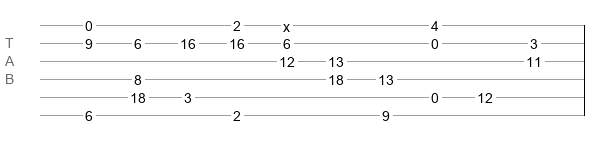0: (85, 18, 93, 28), (431, 90, 439, 100), (431, 36, 439, 46)
11: (526, 54, 542, 64)
12: (279, 54, 295, 64), (477, 90, 493, 100)
13: (328, 54, 344, 64), (378, 72, 394, 82)
16: (180, 36, 196, 46), (229, 36, 245, 46)
18: (130, 90, 146, 100), (328, 72, 344, 82)
2: (233, 18, 241, 28), (233, 108, 241, 118)
3: (184, 90, 192, 100), (530, 36, 538, 46)
4: (431, 18, 439, 28)
6: (85, 108, 93, 118), (134, 36, 142, 46), (283, 36, 291, 46)
8: (134, 72, 142, 82)
9: (85, 36, 93, 46), (382, 108, 390, 118)
x: (283, 19, 290, 27)
